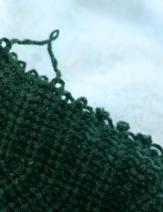snag: (4, 25, 69, 86)
